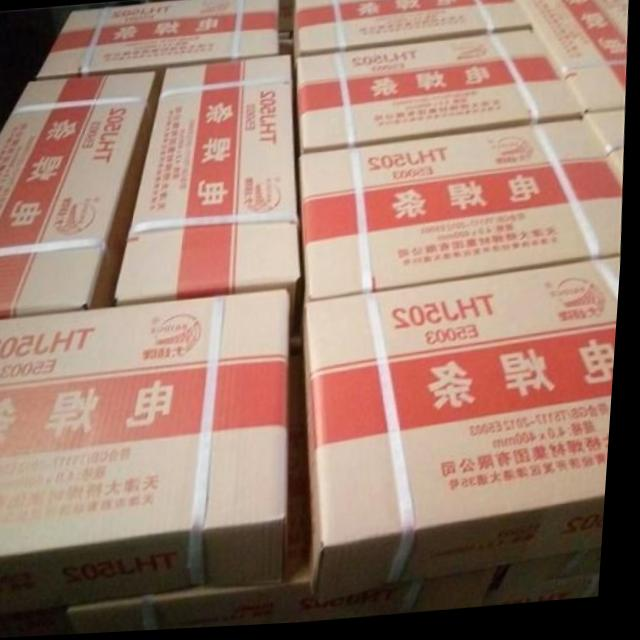box: (309, 258, 620, 612), (0, 293, 298, 612), (74, 345, 319, 635), (300, 119, 625, 301), (114, 59, 304, 308), (0, 71, 163, 316), (298, 29, 585, 155), (36, 0, 277, 78), (293, 0, 533, 61), (512, 0, 629, 117), (316, 572, 504, 615), (490, 552, 610, 608), (582, 113, 625, 189), (276, 0, 294, 57)
